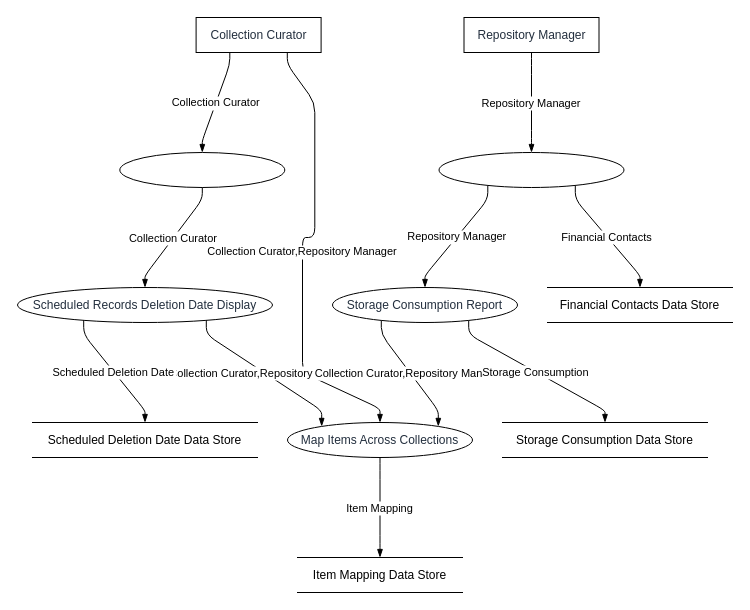
The diagram is 750 pixels wide and 610 high, and some of its shapes have lost their labels. The box of each missing label's shape, as (x1, y1, x2, y2) in pixels:
Set Data Expiration Date: (119, 152, 285, 188)
Track Financial Responsibility: (438, 152, 624, 188)
